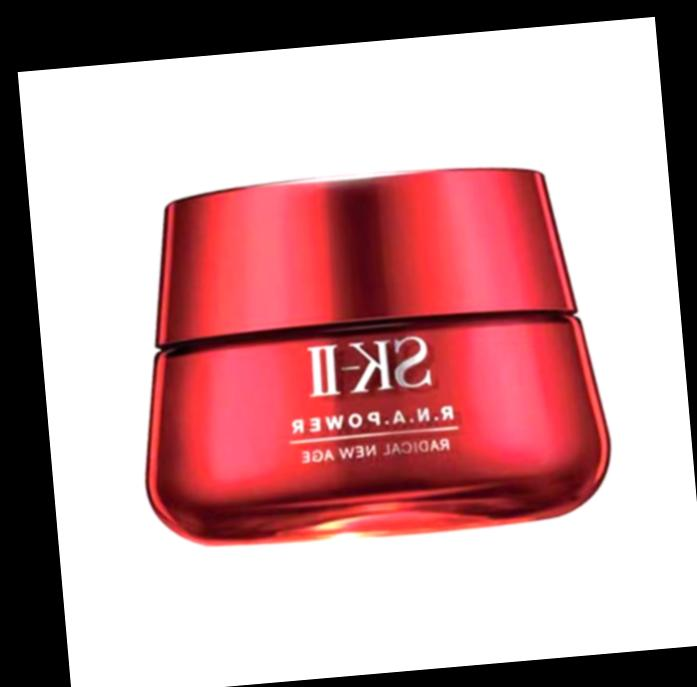cosmetic: (133, 158, 602, 543)
